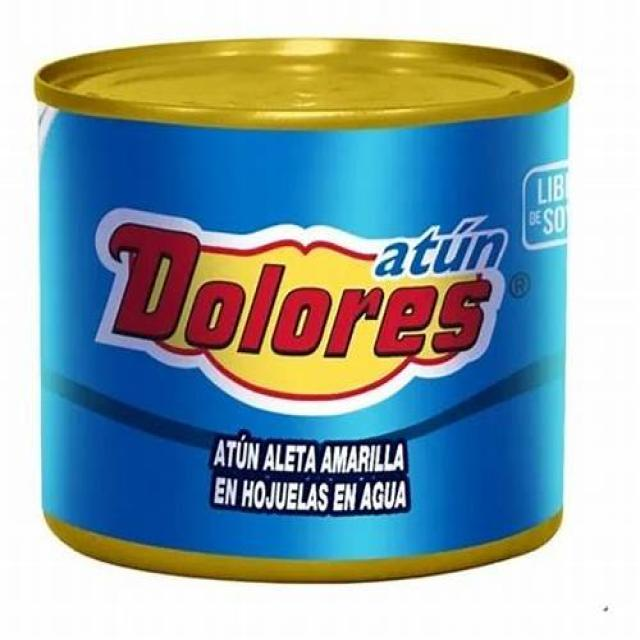Lata: (28, 37, 574, 578)
